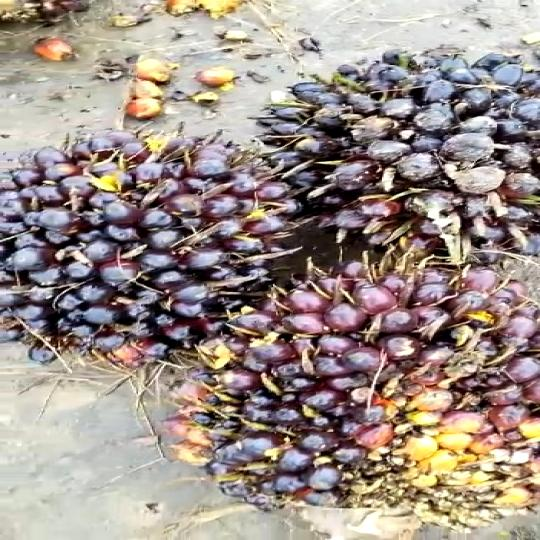mentah: (170, 242, 526, 534), (0, 116, 305, 369), (255, 22, 540, 266)
